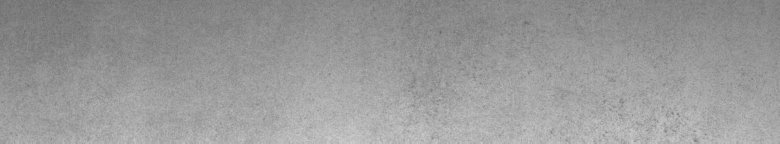ib: (604, 76, 688, 132)
